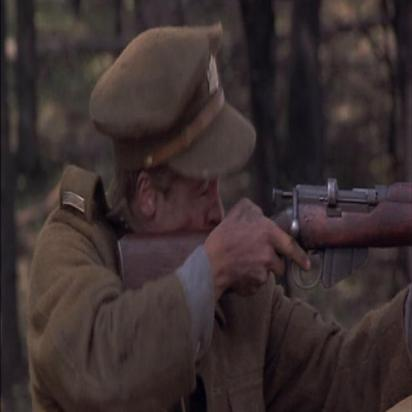Gun: (115, 176, 412, 307)
